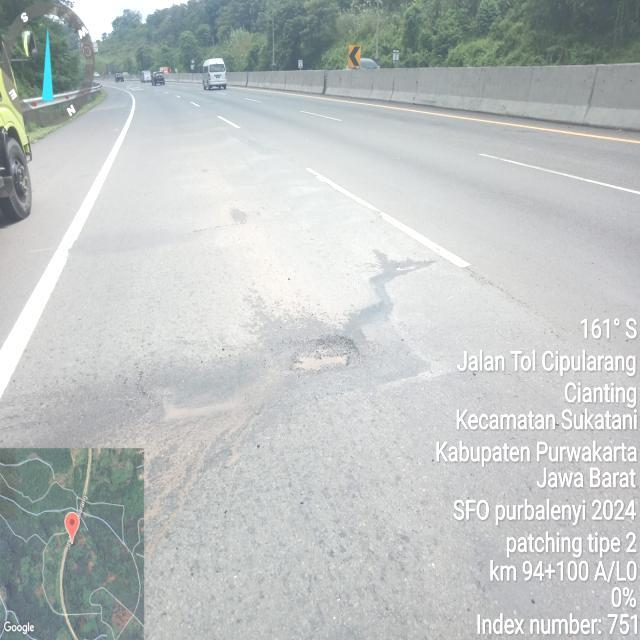Buraco: (286, 333, 363, 377)
